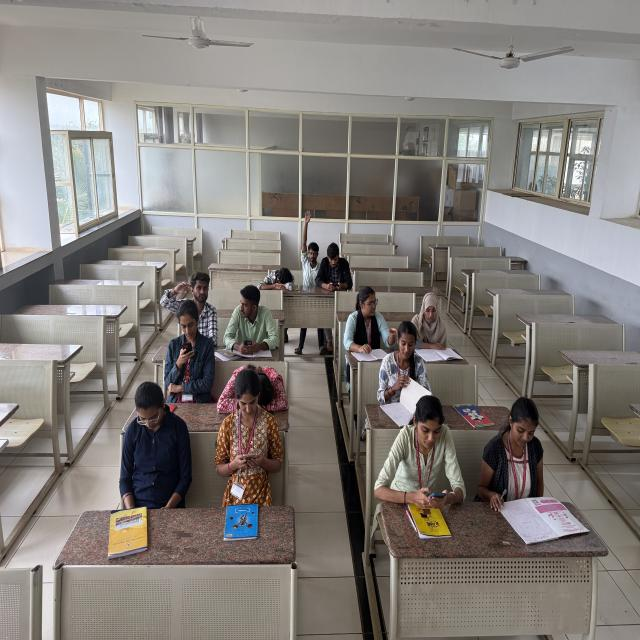Hand Rising: (296, 206, 325, 289)
Reading: (482, 402, 570, 527), (373, 324, 433, 412), (409, 294, 462, 362)
Sleeping: (257, 263, 300, 298)
Using Phone: (209, 363, 291, 497), (113, 376, 198, 501), (377, 397, 465, 508), (158, 300, 222, 391), (223, 279, 281, 352), (318, 243, 356, 296)
